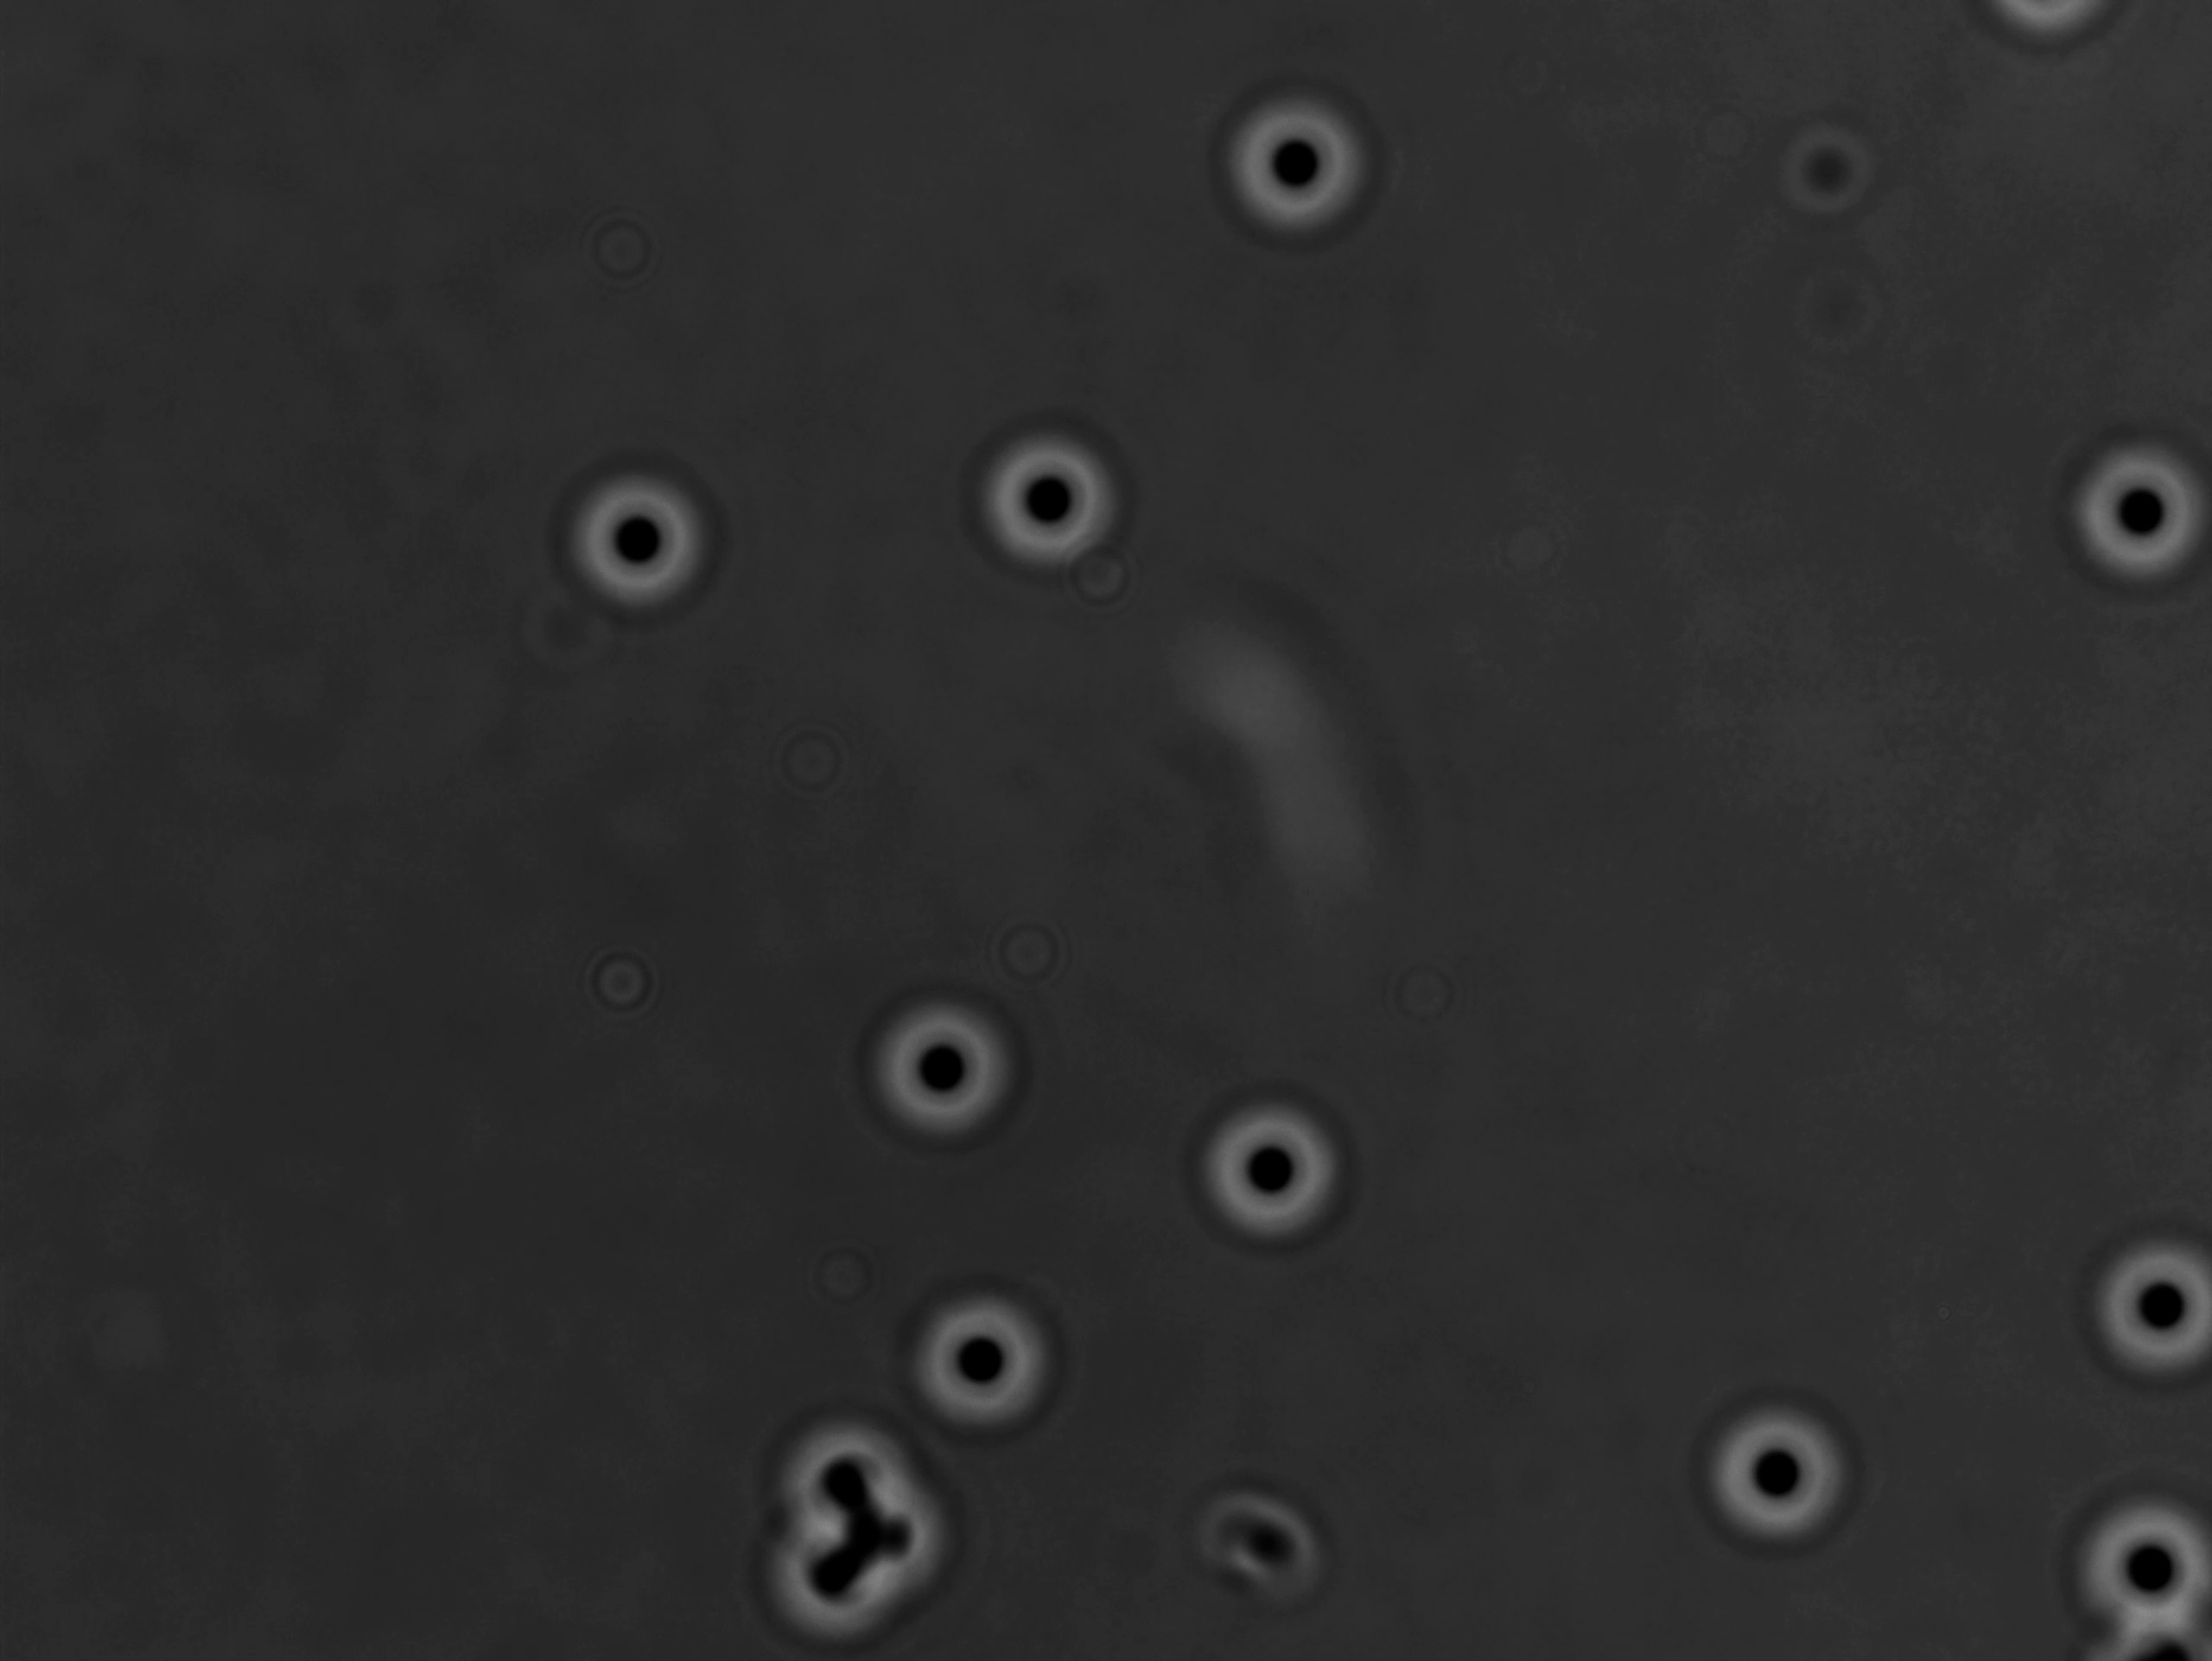depth:-40: (1202, 82, 1383, 260), (1690, 1389, 1879, 1558), (1190, 1090, 1364, 1254), (2048, 429, 2212, 604), (865, 984, 1027, 1159), (977, 419, 1139, 584), (897, 1277, 1064, 1436), (556, 459, 720, 614), (2058, 1478, 2212, 1644), (2065, 1214, 2212, 1377)
